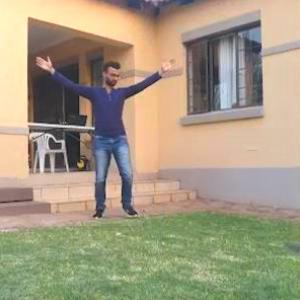takeoff: (32, 55, 174, 212)
